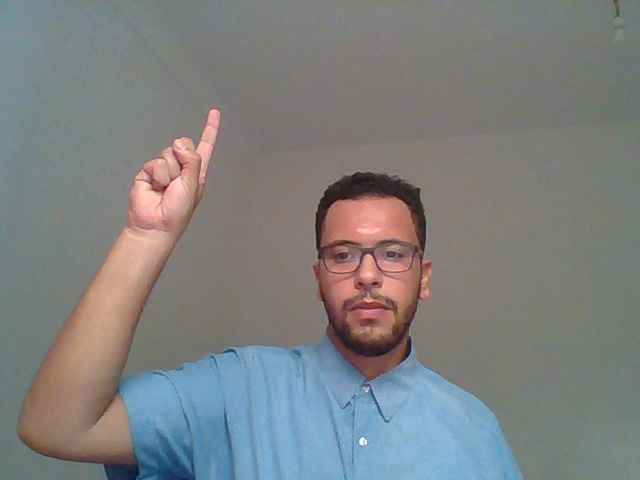handup: (75, 87, 236, 376)
